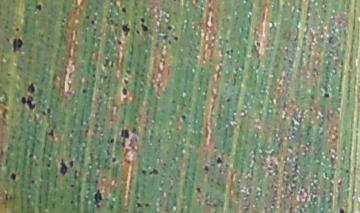tarspot: (119, 128, 132, 150), (92, 189, 103, 209), (11, 36, 23, 54), (25, 94, 37, 111), (121, 22, 132, 39), (58, 157, 67, 177), (139, 17, 150, 33), (25, 81, 38, 94), (120, 86, 131, 96), (119, 6, 129, 17), (47, 127, 55, 139), (34, 3, 43, 13), (149, 168, 159, 177), (9, 172, 18, 181), (322, 90, 331, 99), (109, 155, 118, 164), (115, 37, 124, 46), (20, 94, 26, 106), (194, 185, 202, 194), (216, 155, 223, 165), (68, 159, 75, 168), (337, 206, 346, 213), (172, 34, 180, 41), (180, 112, 187, 120), (108, 136, 114, 145), (69, 183, 76, 190), (45, 162, 52, 169), (89, 19, 96, 26), (84, 13, 91, 20), (344, 167, 350, 175), (203, 164, 209, 172), (167, 23, 173, 31), (225, 96, 231, 104), (46, 106, 52, 114), (135, 202, 143, 208), (224, 37, 230, 45), (254, 40, 261, 46), (81, 87, 87, 94), (140, 169, 147, 175), (143, 202, 150, 208), (92, 13, 99, 19), (167, 39, 173, 45), (29, 179, 36, 184), (230, 48, 235, 55), (225, 49, 230, 56), (41, 110, 46, 115)
